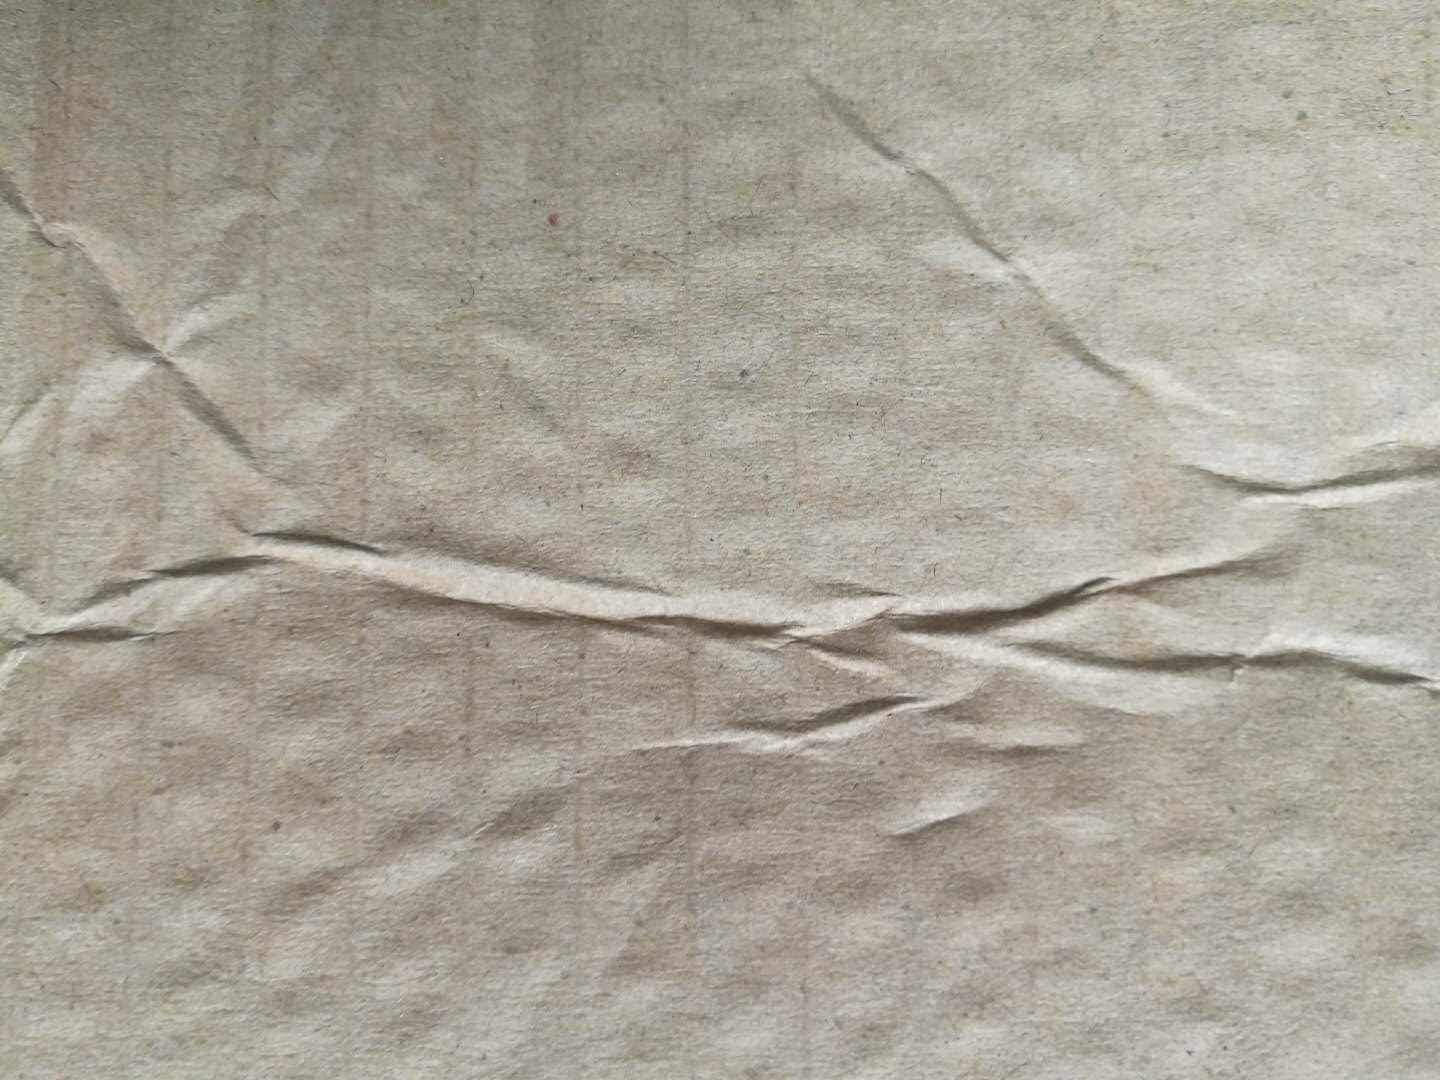defect: (3, 61, 1440, 898)
